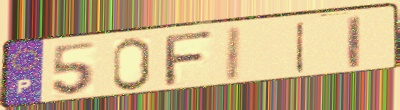0: (111, 36, 153, 93)
5: (50, 40, 99, 98)
F: (161, 28, 218, 89)
I: (222, 24, 245, 85), (345, 13, 363, 70), (293, 19, 308, 75)
